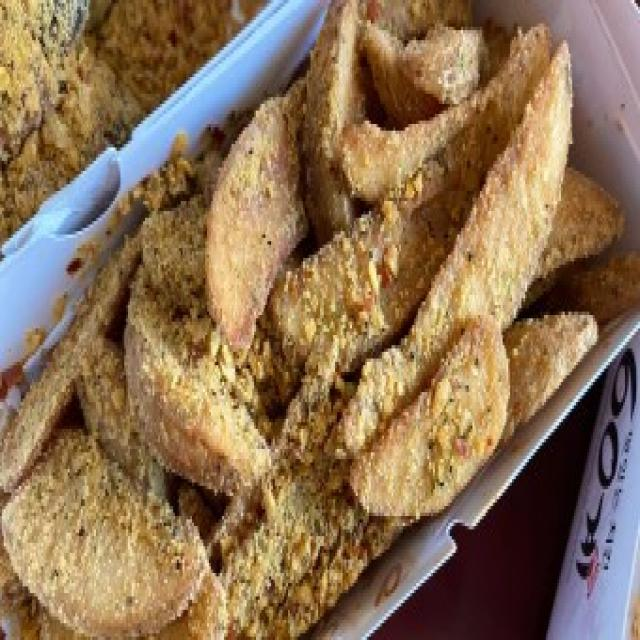Frango: (4, 1, 640, 640)
